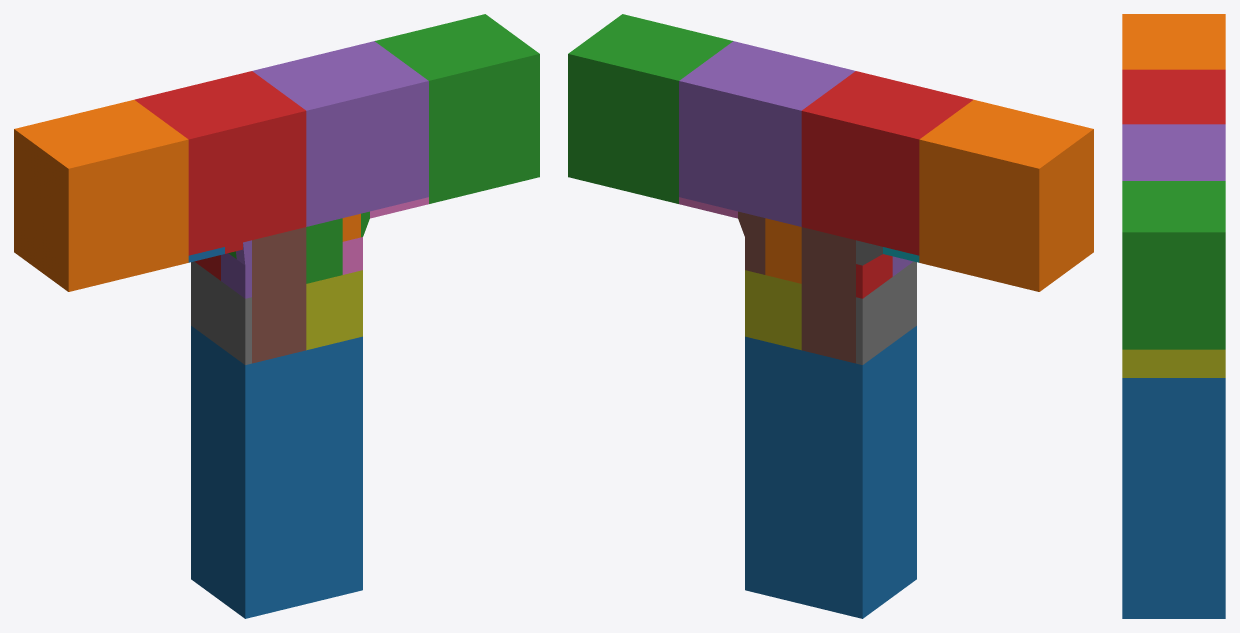
Rendered from decomp.obj.
3 renders of one model, left to right at view 1: azimuth 30°, elevation 25°; view 2: azimuth 150°, elevation 25°; view 3: azimuth 270°, elevation 25°, orthographic. The views are drawn at different scales.
Visible parts, largest first — view 1: t_shape000, t_shape001, t_shape004, t_shape003, t_shape002, t_shape005, t_shape007, t_shape008, t_shape012, t_shape014, t_shape016; view 2: t_shape000, t_shape001, t_shape004, t_shape003, t_shape002, t_shape005, t_shape007, t_shape008, t_shape011, t_shape013, t_shape015; view 3: t_shape000, t_shape002, t_shape004, t_shape001, t_shape003, t_shape008.
Boxes of the visible parts, box(x1,y1,x2,y2) form: t_shape000: box(191, 326, 362, 618); t_shape001: box(14, 100, 188, 291); t_shape004: box(252, 41, 428, 226); t_shape003: box(134, 71, 306, 255); t_shape002: box(375, 14, 539, 203); t_shape005: box(252, 227, 306, 363); t_shape007: box(191, 261, 251, 364); t_shape008: box(306, 270, 362, 350); t_shape012: box(306, 218, 342, 283); t_shape014: box(221, 253, 251, 298); t_shape016: box(342, 237, 362, 274); t_shape000: box(745, 326, 916, 618); t_shape001: box(919, 100, 1093, 291); t_shape004: box(679, 41, 855, 226); t_shape003: box(801, 71, 973, 255); t_shape002: box(568, 14, 732, 203); t_shape005: box(801, 227, 855, 363); t_shape007: box(856, 261, 916, 364); t_shape008: box(745, 270, 801, 350); t_shape011: box(765, 218, 801, 283); t_shape013: box(856, 254, 892, 298); t_shape015: box(745, 237, 765, 274); t_shape000: box(1122, 378, 1225, 618); t_shape002: box(1122, 181, 1225, 349); t_shape004: box(1122, 124, 1225, 180); t_shape001: box(1122, 14, 1225, 69); t_shape003: box(1122, 69, 1225, 124); t_shape008: box(1122, 349, 1225, 377).
Size of the model in its own units: 0.2 by 0.2 by 0.04.
